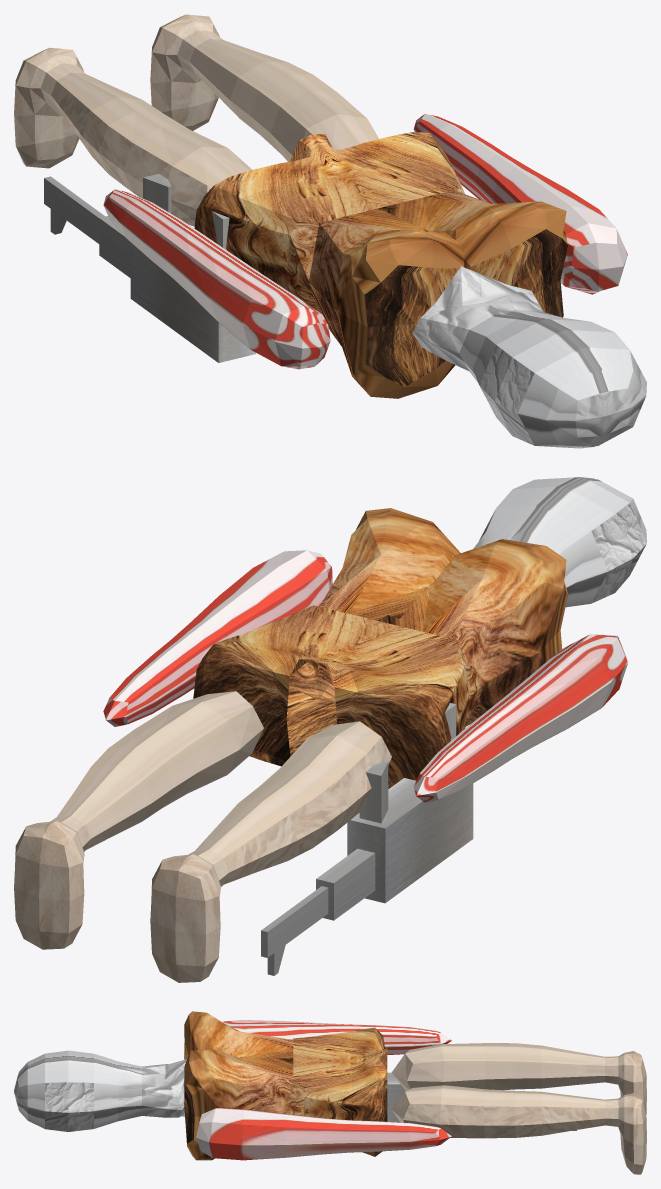
The model's file is perso2.obj.
3 views of the same model, one above another, from view 1: azimuth 30°, elevation 25°; view 2: azimuth 150°, elevation 25°; view 3: azimuth 270°, elevation 25° (orthographic). The views are drawn at different scales.
Parts seen in each view (by area): view 1: torso, legs, arms, head, gun; view 2: torso, legs, arms, gun, head; view 3: legs, torso, arms, head, gun.
Part boxes in pixels (x1,y1,x2,y2): torso: (194,132,567,398); legs: (14,14,378,226); arms: (103,114,627,369); head: (412,266,646,448); gun: (44,173,256,362); torso: (193,508,568,788); legs: (14,691,391,982); arms: (103,550,627,802); gun: (261,703,473,975); head: (473,477,646,607); legs: (391,1043,646,1174); torso: (184,1011,387,1160); arms: (196,1020,451,1160); head: (14,1050,186,1131); gun: (387,1072,576,1130).
Bounding box in the file's own units: 0.9307 × 0.4851 × 2.19.
Materials: 5 (5 with a texture image).
